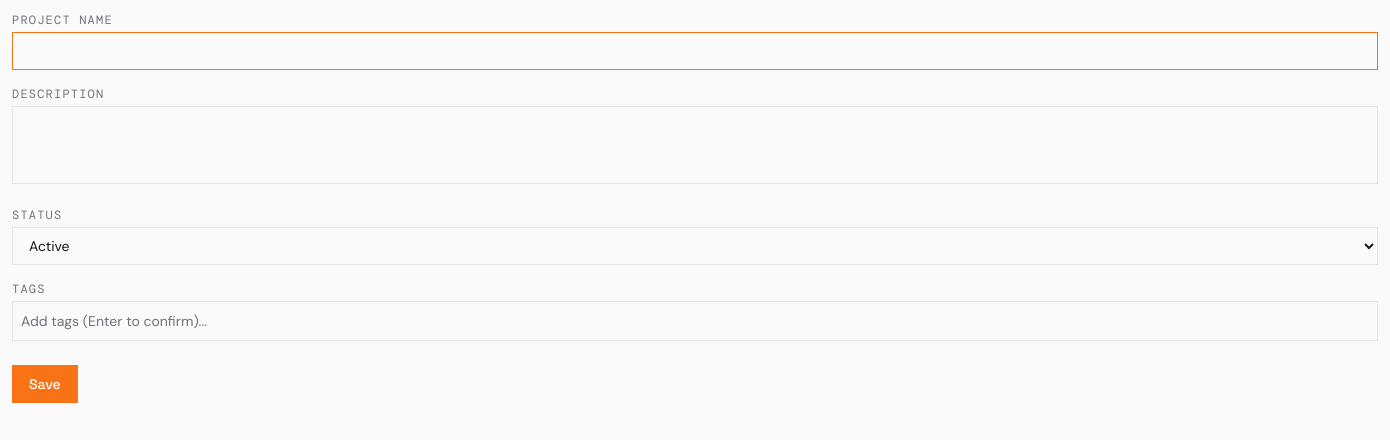
Test: ProjectForm › shows validation error for short name
In the field labelled "Project name": (695, 51) left=12, top=32, right=1378, bottom=70, type "X"
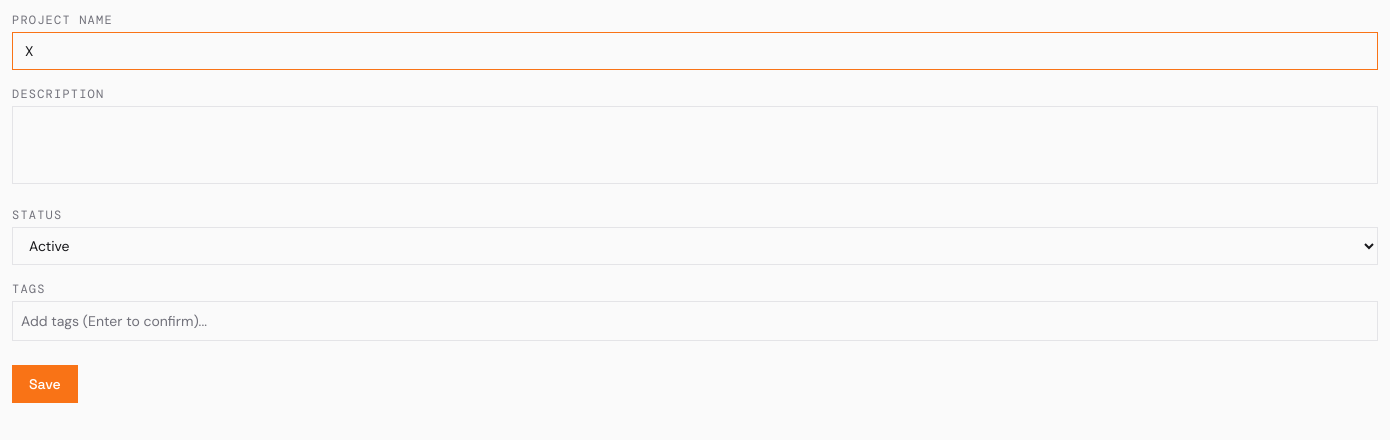
Click the button with aria-label "save project": (45, 384) left=12, top=365, right=78, bottom=403
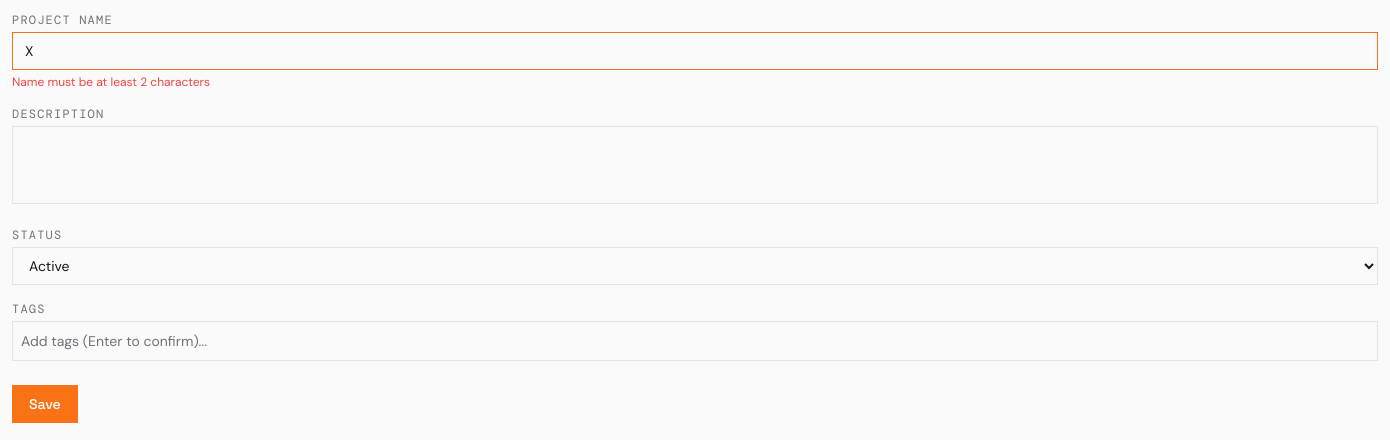
Expected: the text "Name must be at least 2 characters" is shown, left=12, top=74, right=210, bottom=90
